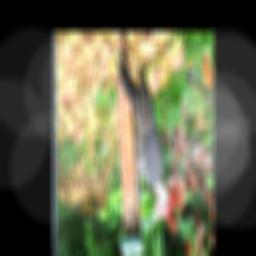Woodpecker: (114, 44, 176, 229)
